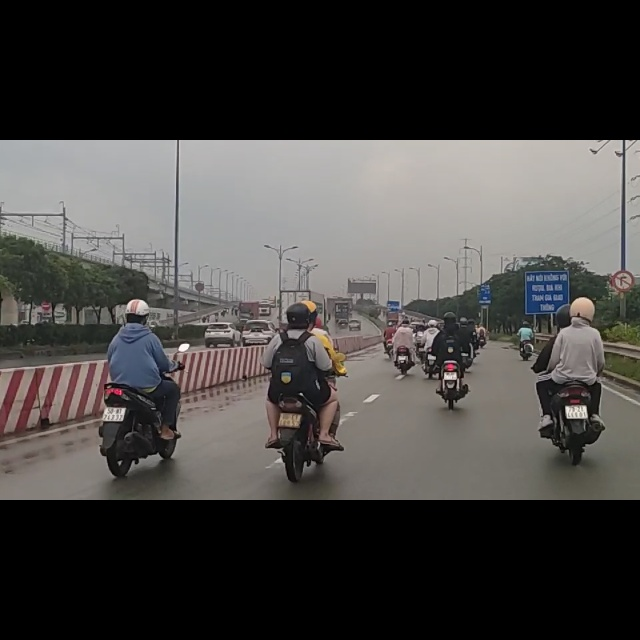bien_chi_dan: (613, 235, 635, 270)
